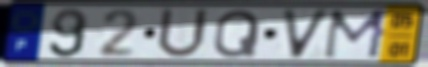2: (99, 7, 140, 59)
9: (46, 6, 91, 60)
M: (320, 8, 392, 61)
Q: (210, 8, 263, 60)
U: (153, 6, 212, 61)
V: (279, 8, 333, 61)
